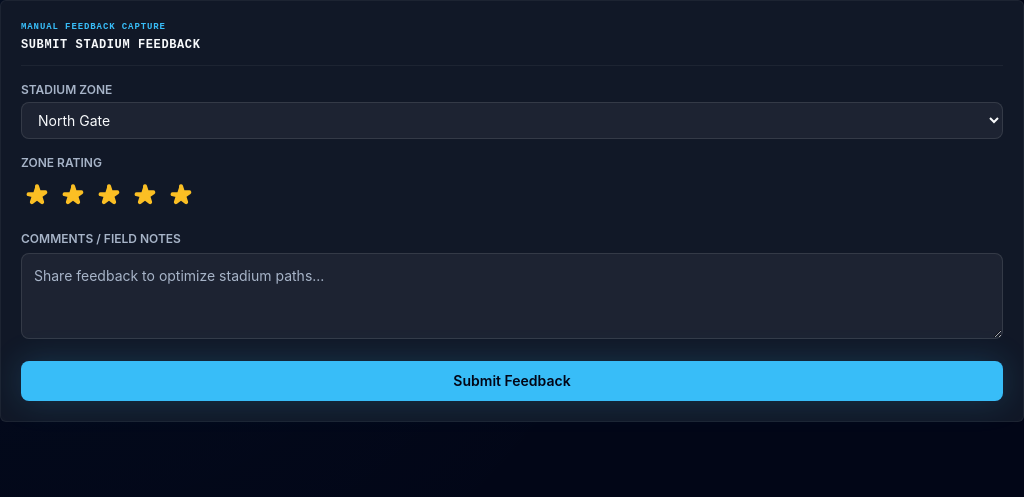
Scenario: FeedbackPanel › shows validation error when submitting empty comment
Click the button "Submit Feedback" at coordinates (512, 380), box [21, 360, 1003, 400]
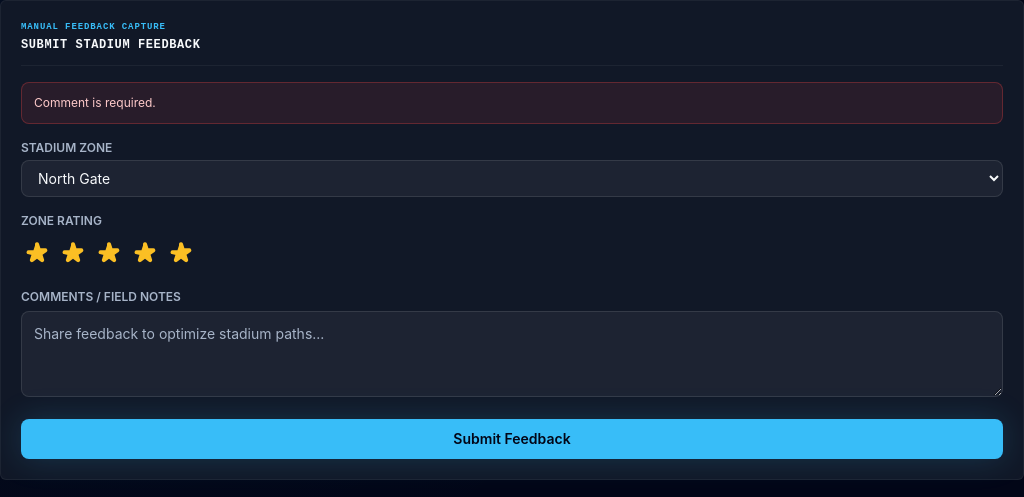
Now the text "Comment is required." is shown, box [21, 82, 1003, 124]
